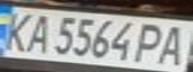4: (109, 18, 139, 62)
5: (48, 14, 78, 56), (69, 15, 97, 58)
6: (90, 17, 115, 61)
A: (151, 21, 193, 66), (21, 10, 54, 54)
K: (0, 8, 36, 53)
P: (130, 20, 172, 64)
